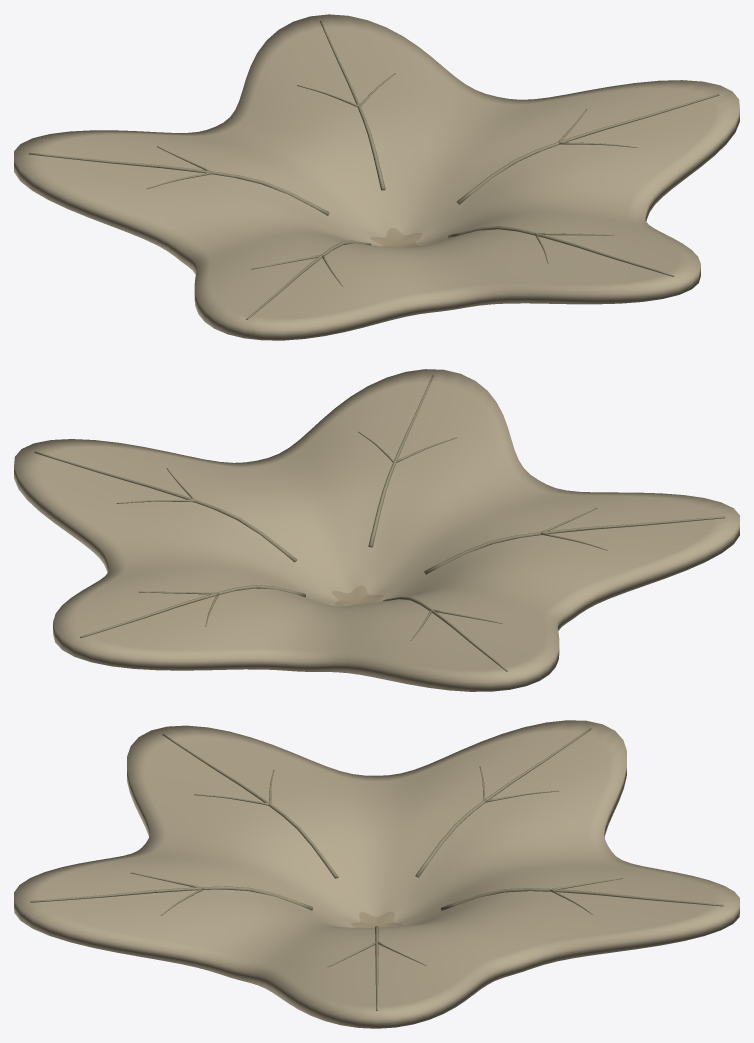
File: florissantia.glb
3 renders of one model, top to bottom at view 1: azimuth 30°, elevation 25°; view 2: azimuth 150°, elevation 25°; view 3: azimuth 270°, elevation 25°, orthographic.
Visible parts, largest first — view 1: one-continuous-five-sepal-preserved-calyx-with-shallow-cup, restrained-original-primary-sepal-veins; view 2: one-continuous-five-sepal-preserved-calyx-with-shallow-cup, restrained-original-primary-sepal-veins; view 3: one-continuous-five-sepal-preserved-calyx-with-shallow-cup, restrained-original-primary-sepal-veins.
Part boxes in pixels (x1,y1,x2,y2): one-continuous-five-sepal-preserved-calyx-with-shallow-cup: [14, 14, 739, 340]; restrained-original-primary-sepal-veins: [28, 20, 719, 319]; one-continuous-five-sepal-preserved-calyx-with-shallow-cup: [14, 369, 739, 691]; restrained-original-primary-sepal-veins: [34, 374, 725, 671]; one-continuous-five-sepal-preserved-calyx-with-shallow-cup: [14, 720, 739, 1028]; restrained-original-primary-sepal-veins: [30, 728, 723, 1010].
Bounding box in the file's own units: 0.0597 × 0.00789 × 0.0622.
